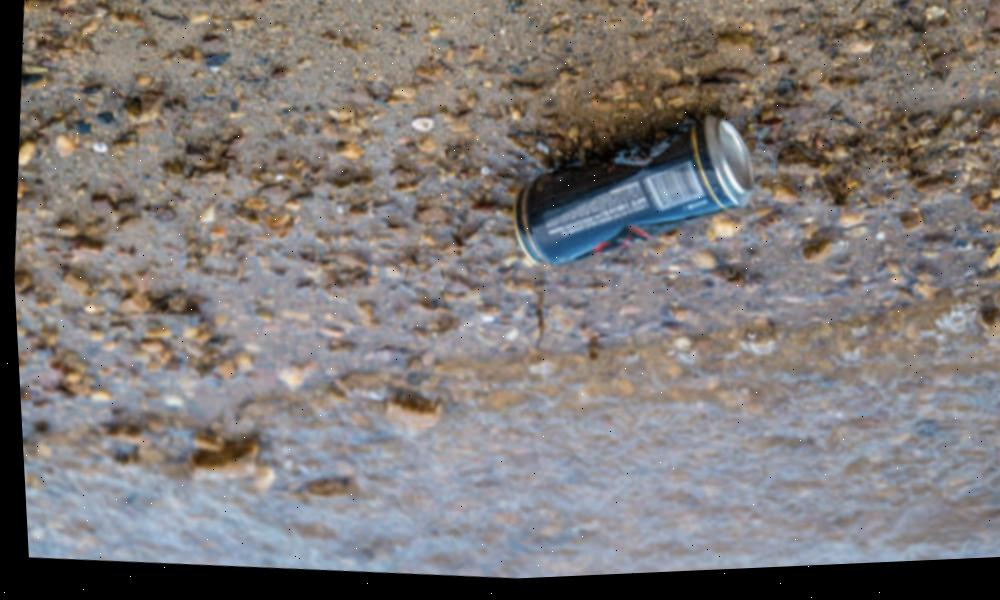can: (503, 99, 762, 290)
